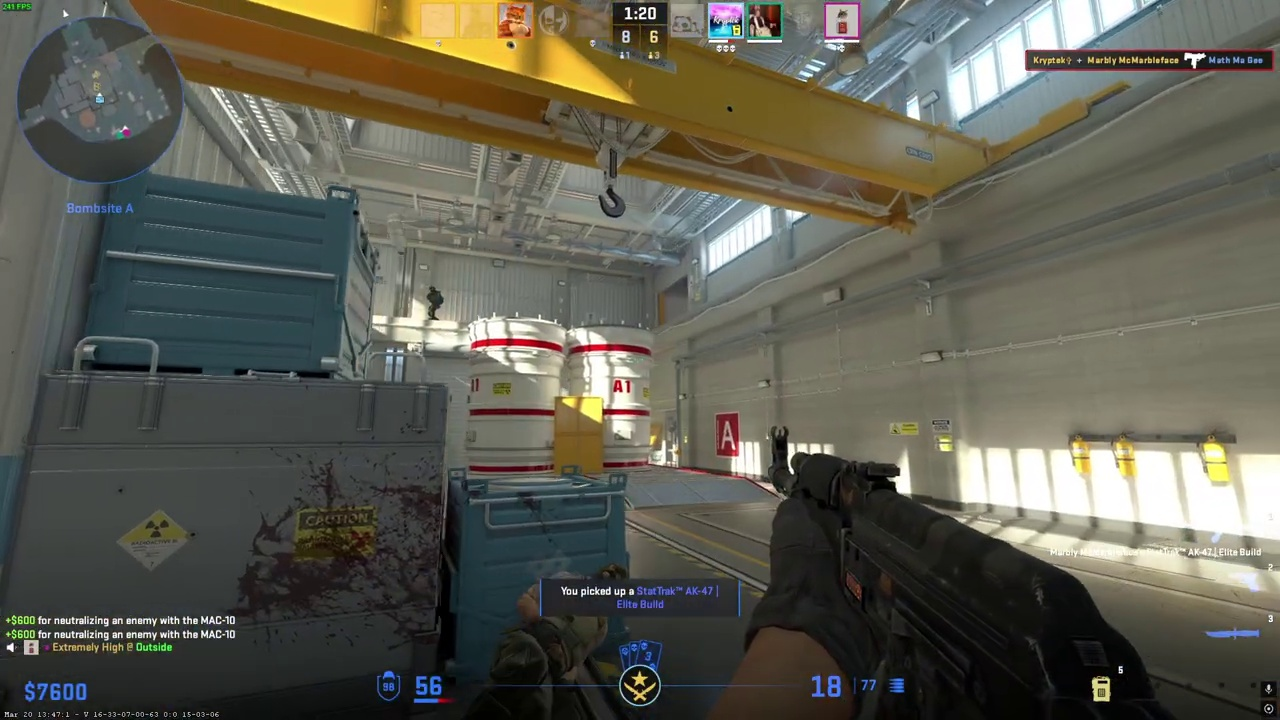CT: (426, 286, 443, 320)
